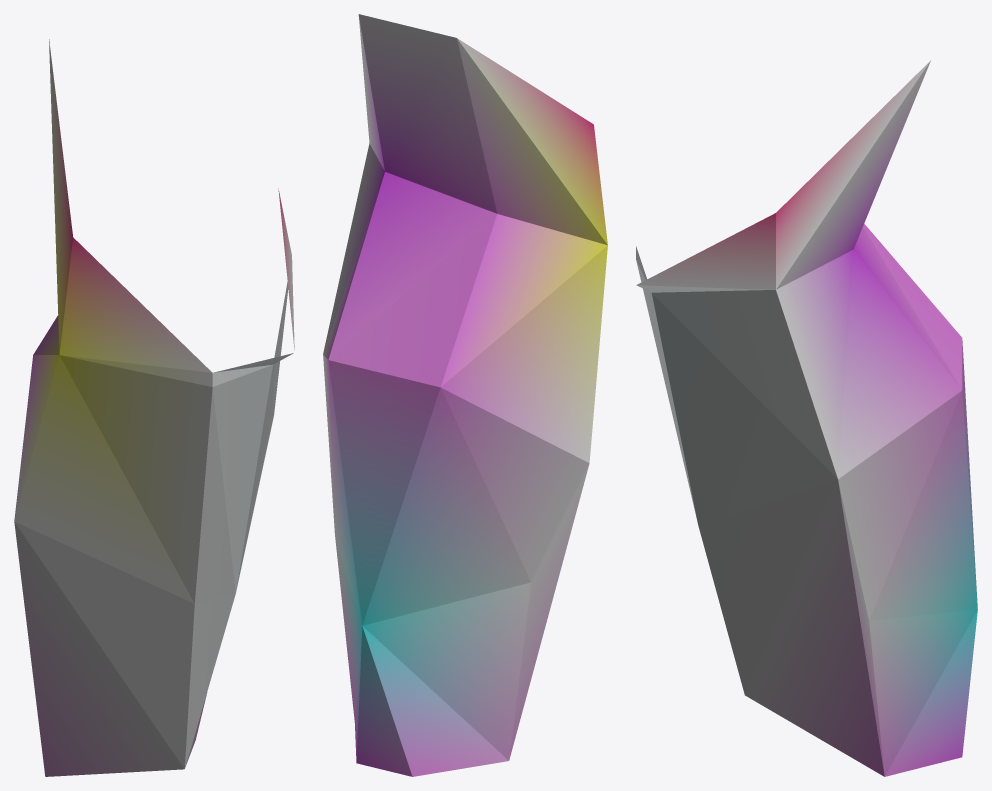
3 renders of one model, left to right at view 1: azimuth 30°, elevation 25°; view 2: azimuth 150°, elevation 25°; view 3: azimuth 270°, elevation 25°, orthographic. The views are drawn at different scales.
Visible parts, largest first — view 1: model_1114; view 2: model_1114; view 3: model_1114.
Boxes of the visible parts, x1,y1,x2,y2 form: model_1114: (14,39,294,776); model_1114: (323,14,607,776); model_1114: (636,60,977,776).
Bounding box in the file's own units: 19 × 50 × 22.
